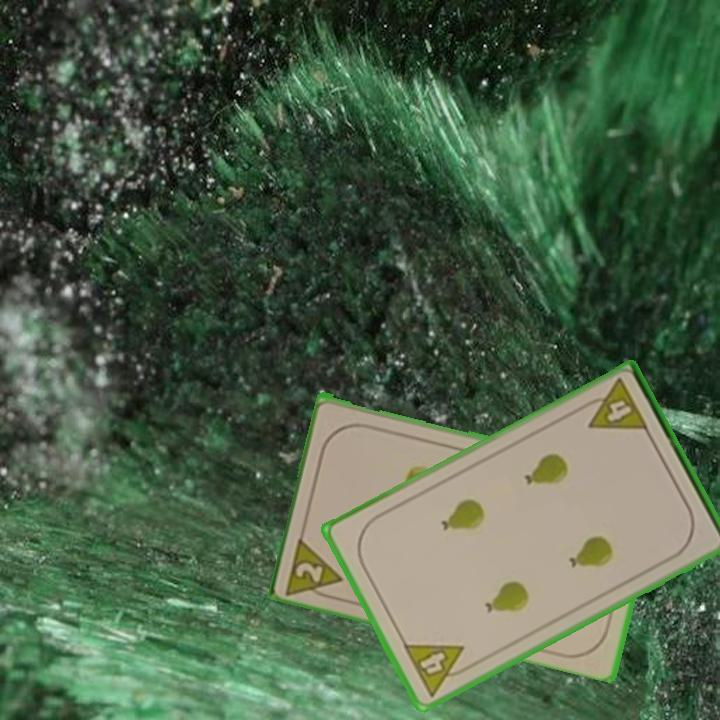2p: (282, 530, 347, 603)
4p: (399, 640, 476, 700), (576, 375, 652, 435)
